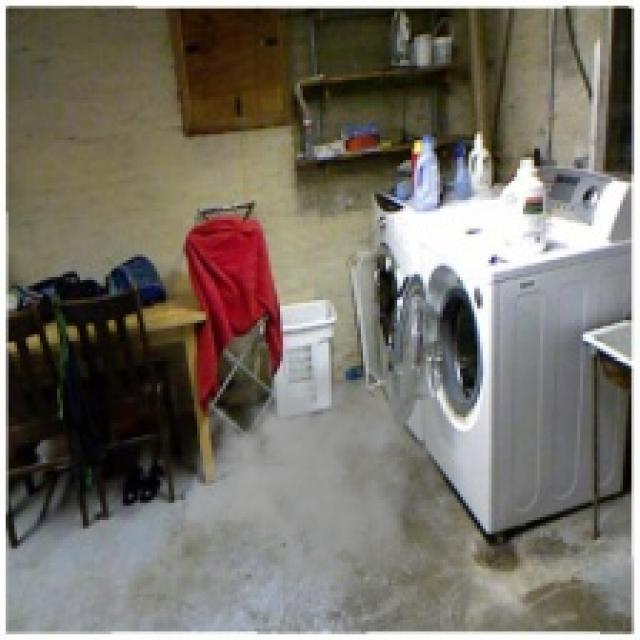Smoke: (182, 337, 458, 597)
